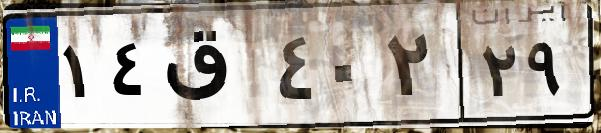0: (330, 28, 385, 110)
1: (57, 26, 110, 100)
2: (385, 28, 445, 110), (475, 38, 525, 113)
4: (270, 28, 330, 110), (110, 28, 158, 98)
9: (525, 38, 570, 115)
ق: (158, 20, 270, 120)
